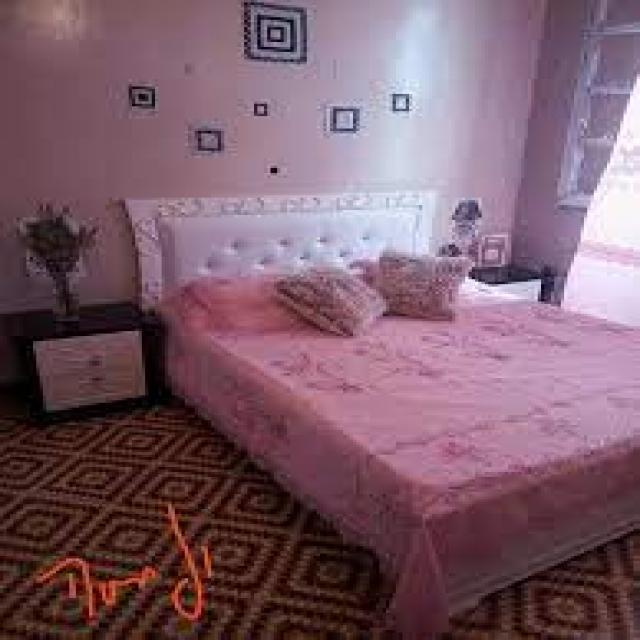bed: (122, 211, 640, 543)
beside table: (24, 312, 172, 415)
